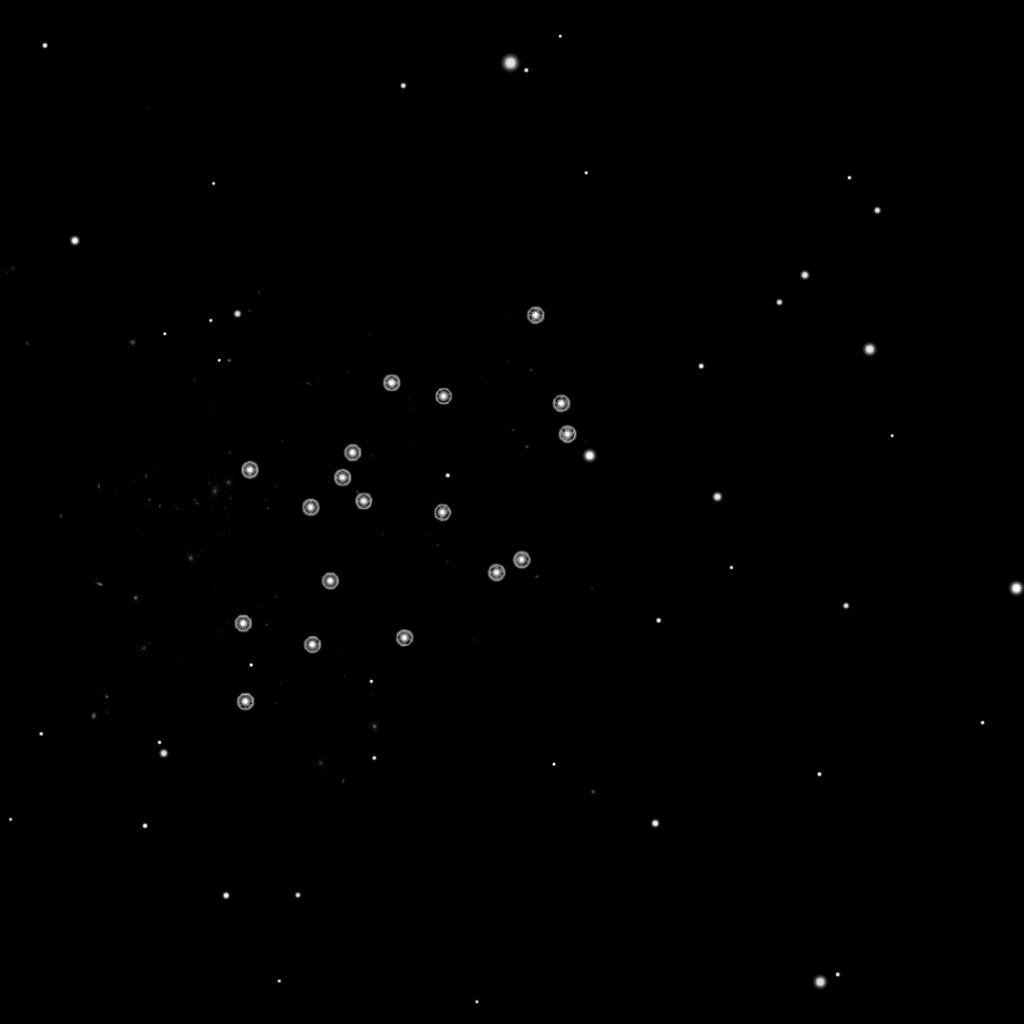canis_major: (297, 368, 453, 525)
